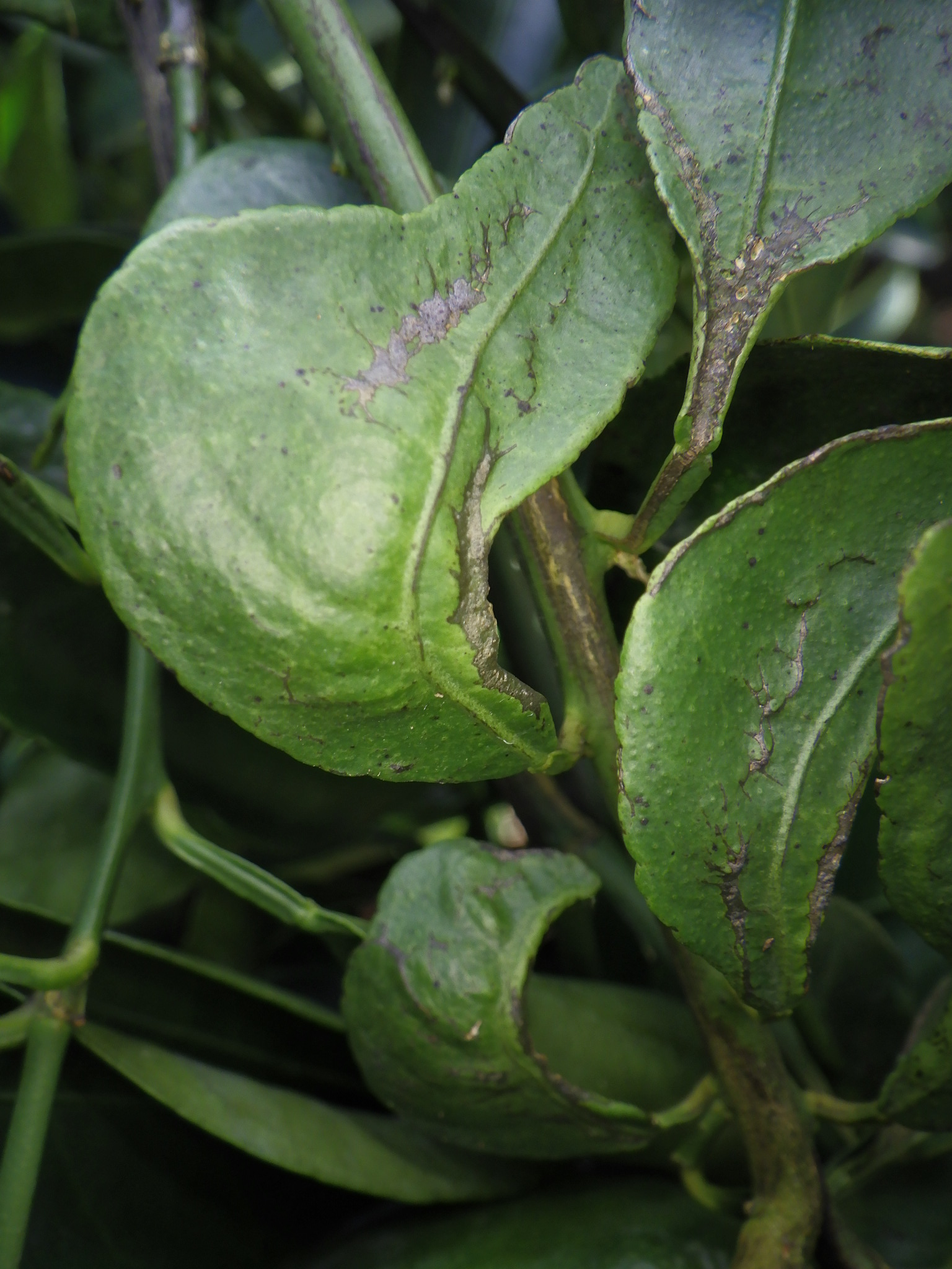Thrips_Damage: (352, 199, 550, 748), (634, 204, 827, 544), (721, 676, 897, 1018)
